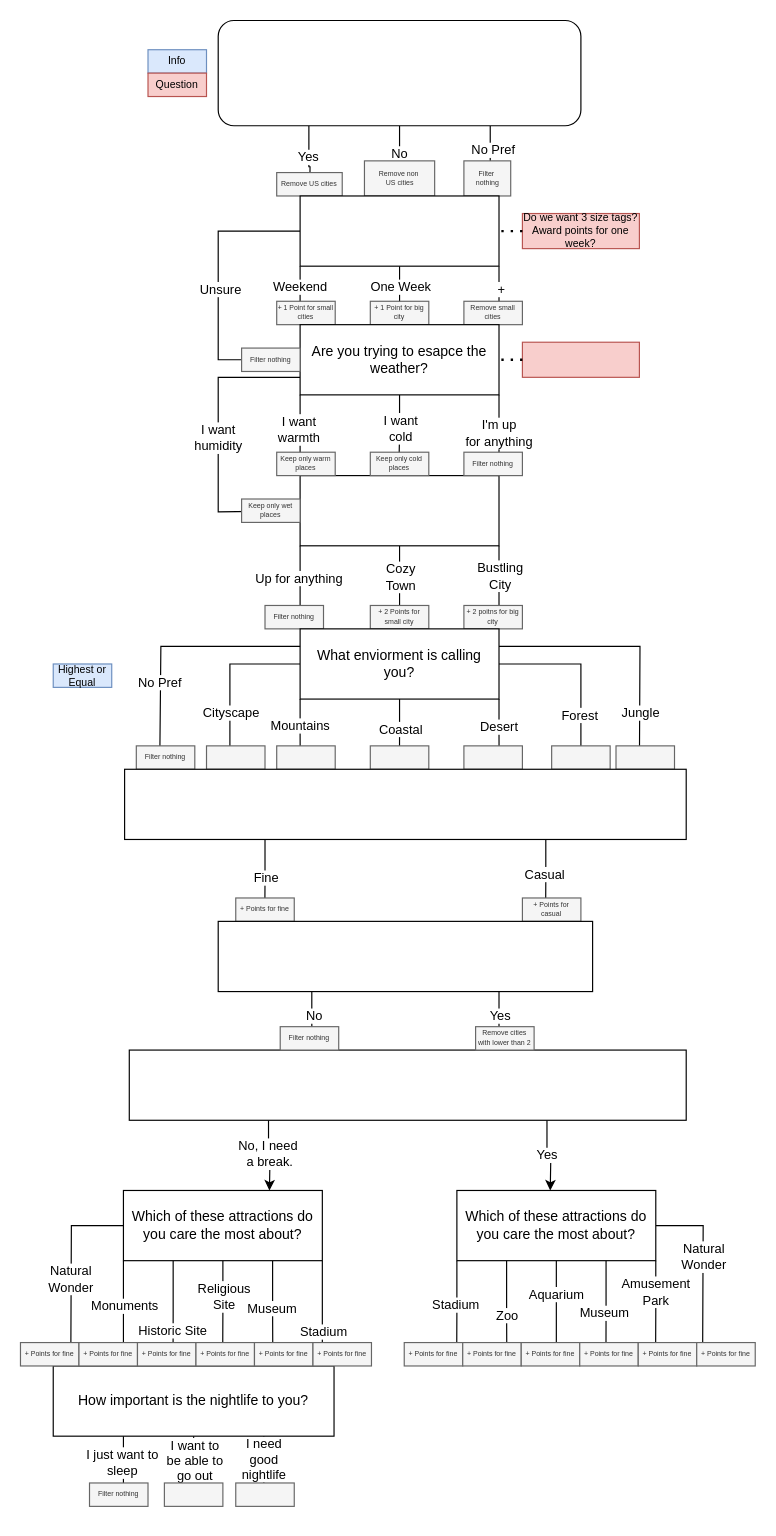
The diagram is 776 pixels wide and 1536 high, and some of its shapes have lost their labels. Each missing label, with the box of its shape:
Are you bringing the whole family?: (128, 1049, 686, 1120)
Are you looking to go on a shopping spree?: (217, 920, 593, 992)
Are you trying to get out of the US?: (217, 19, 581, 126)
How do we keep this data up to date? Filter or Points?: (521, 341, 639, 377)
How long are you trying to get away?: (299, 195, 499, 266)
Remove if cityscape is not highest: (205, 745, 265, 769)
Remove if costal is not highest: (369, 745, 429, 769)
Remove if desert is not highest: (463, 745, 522, 769)
Remove if forest is not highest: (550, 745, 610, 769)
Remove if jungle is not highest: (615, 745, 675, 769)
Remove if mountains is not highest: (276, 745, 335, 769)
Remove under 1: (163, 1482, 223, 1506)
Remove under 2: (235, 1482, 294, 1506)
What cityscape is calling you?: (299, 474, 499, 546)
What food do you want?: (123, 768, 686, 839)
